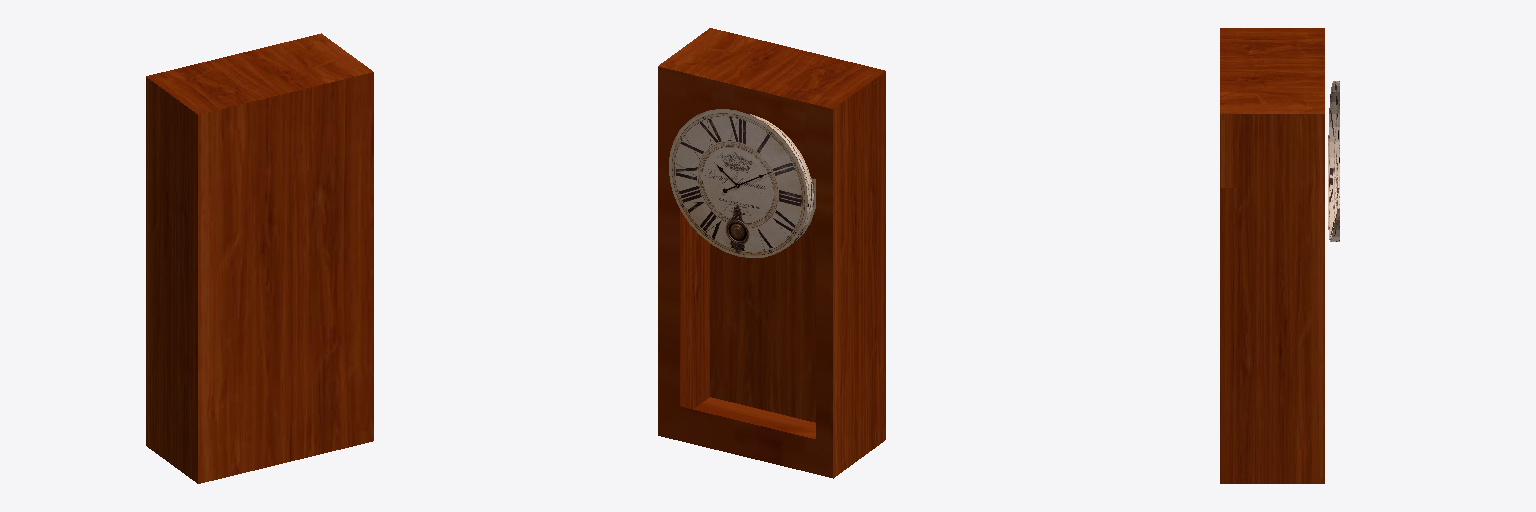
3 views of the same model, side by side, from view 1: azimuth 30°, elevation 25°; view 2: azimuth 150°, elevation 25°; view 3: azimuth 270°, elevation 25° (orthographic).
Visible parts, largest first — view 1: Cubo.018_Cubo.021; view 2: Cubo.018_Cubo.021, Cilindro.016; view 3: Cubo.018_Cubo.021, Cilindro.016.
Boxes of the visible parts, box(x1,y1,x2,y2) form: Cubo.018_Cubo.021: box(146, 33, 373, 483); Cubo.018_Cubo.021: box(658, 28, 885, 478); Cilindro.016: box(669, 109, 815, 257); Cubo.018_Cubo.021: box(1220, 28, 1324, 483); Cilindro.016: box(1328, 81, 1339, 241).
Bounding box in the file's own units: 12.39 × 24.86 × 7.38.
3 materials, 2 textured.